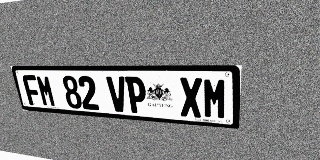2: (77, 76, 99, 110)
8: (61, 76, 83, 109)
F: (22, 75, 43, 106)
M: (203, 78, 228, 120), (35, 75, 57, 107)
P: (125, 76, 148, 114)
V: (106, 76, 129, 112)
X: (179, 77, 202, 118)
